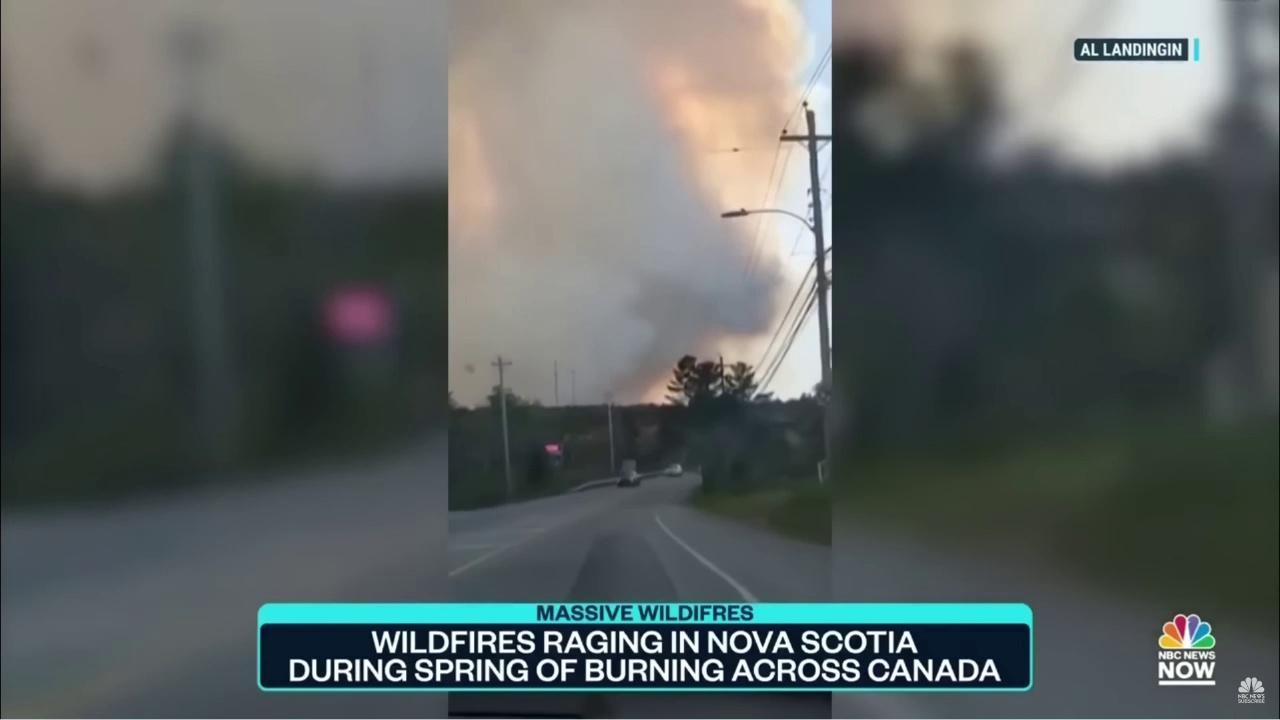smoke: (448, 0, 834, 410)
